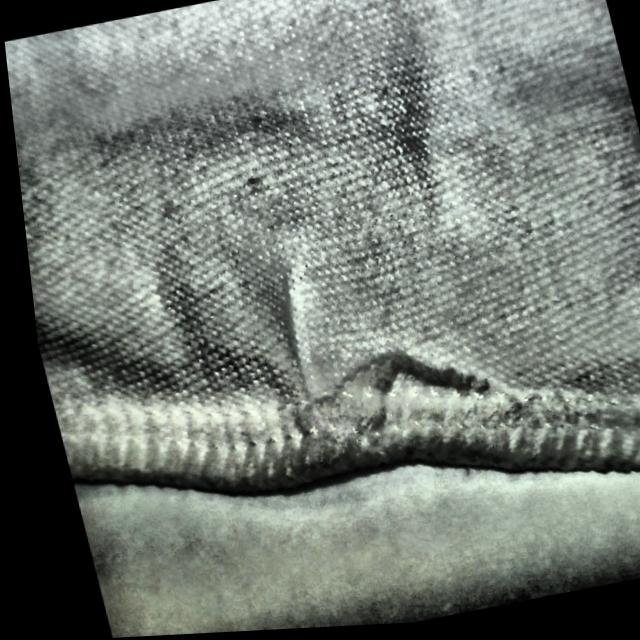seam: (225, 247, 490, 492)
